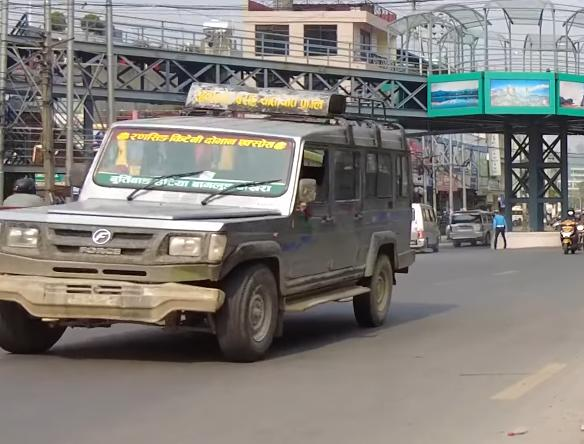SUV: (0, 85, 422, 360), (449, 206, 498, 249)
scooter: (555, 214, 582, 257)
